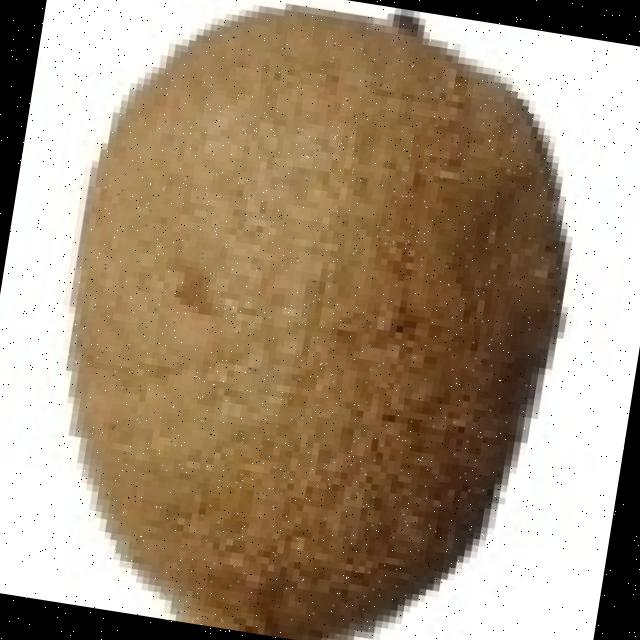kiwi: (70, 1, 554, 629)
